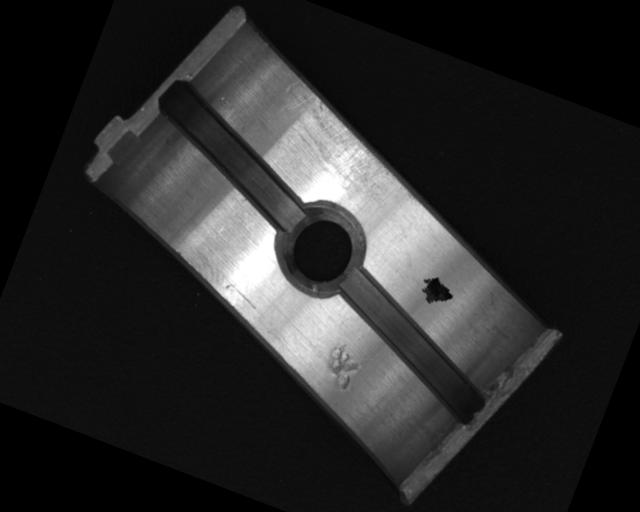blot: (414, 272, 459, 314)
bruise: (317, 336, 369, 395)
gap: (127, 74, 332, 240), (310, 264, 512, 428)
hole: (270, 191, 372, 306)
scratch: (256, 73, 422, 215)
